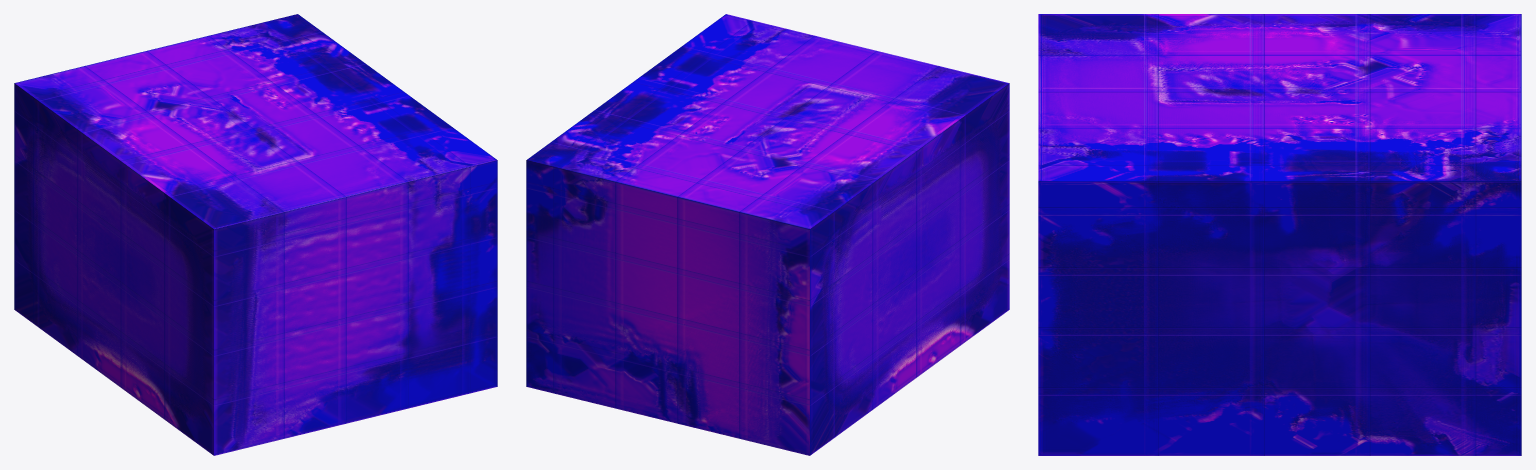
File: room_model_v5.glb
3 views of the same model, side by side, from view 1: azimuth 30°, elevation 25°; view 2: azimuth 150°, elevation 25°; view 3: azimuth 270°, elevation 25° (orthographic). The views are drawn at different scales.
Parts seen in each view (by area): view 1: Wall_South, Ceiling, Wall_West; view 2: Wall_North, Ceiling, Wall_West; view 3: Wall_East, Ceiling.
Part boxes in pixels (x1,y1,x2,y2): Wall_South: [214, 160, 497, 455]; Ceiling: [14, 14, 497, 229]; Wall_West: [14, 83, 213, 455]; Wall_North: [526, 160, 809, 455]; Ceiling: [526, 14, 1009, 229]; Wall_West: [810, 83, 1009, 455]; Wall_East: [1038, 181, 1521, 455]; Ceiling: [1038, 14, 1521, 181].
Bounding box in the file's own units: 3.78 × 2.89 × 4.61.
6 materials, 6 textured.
